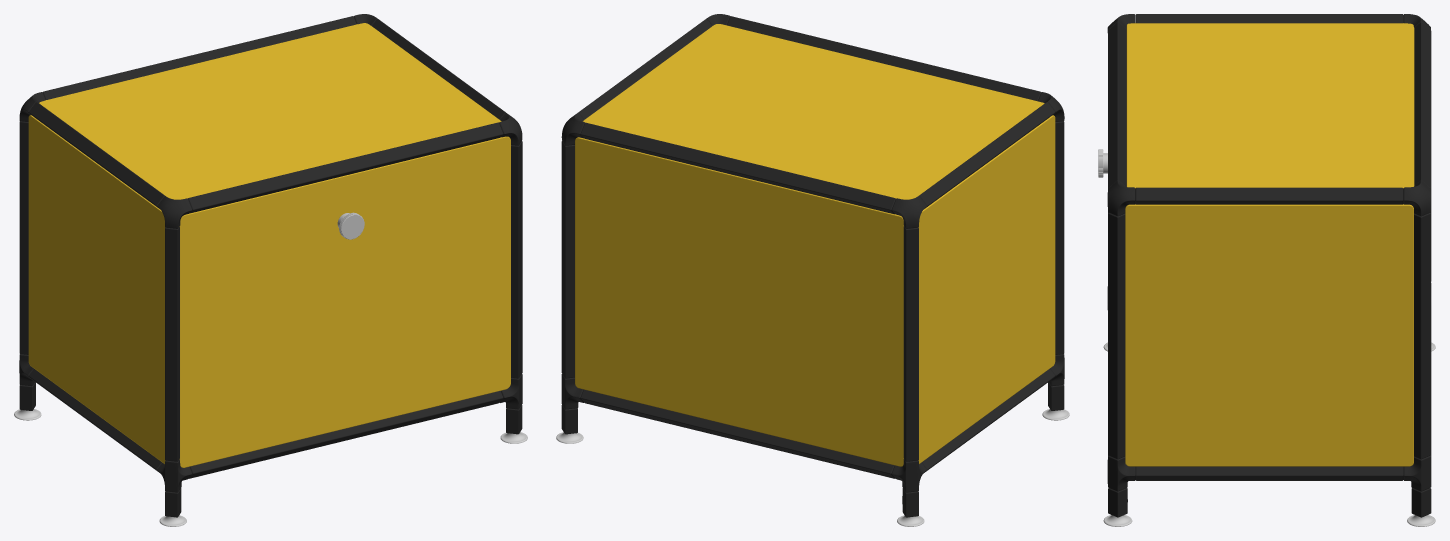
3 views of the same model, side by side, from view 1: azimuth 30°, elevation 25°; view 2: azimuth 150°, elevation 25°; view 3: azimuth 270°, elevation 25° (orthographic). The views are drawn at different scales.
Visible parts, largest first — view 1: 523x374x374; view 2: 523x374x374; view 3: 523x374x374.
Boxes of the visible parts, x1=… form: 523x374x374: x1=14, y1=14, x2=527, y2=526; 523x374x374: x1=556, y1=14, x2=1069, y2=526; 523x374x374: x1=1098, y1=14, x2=1435, y2=526.
Size of the model in its own units: 0.6129 by 0.5133 by 0.4707.
